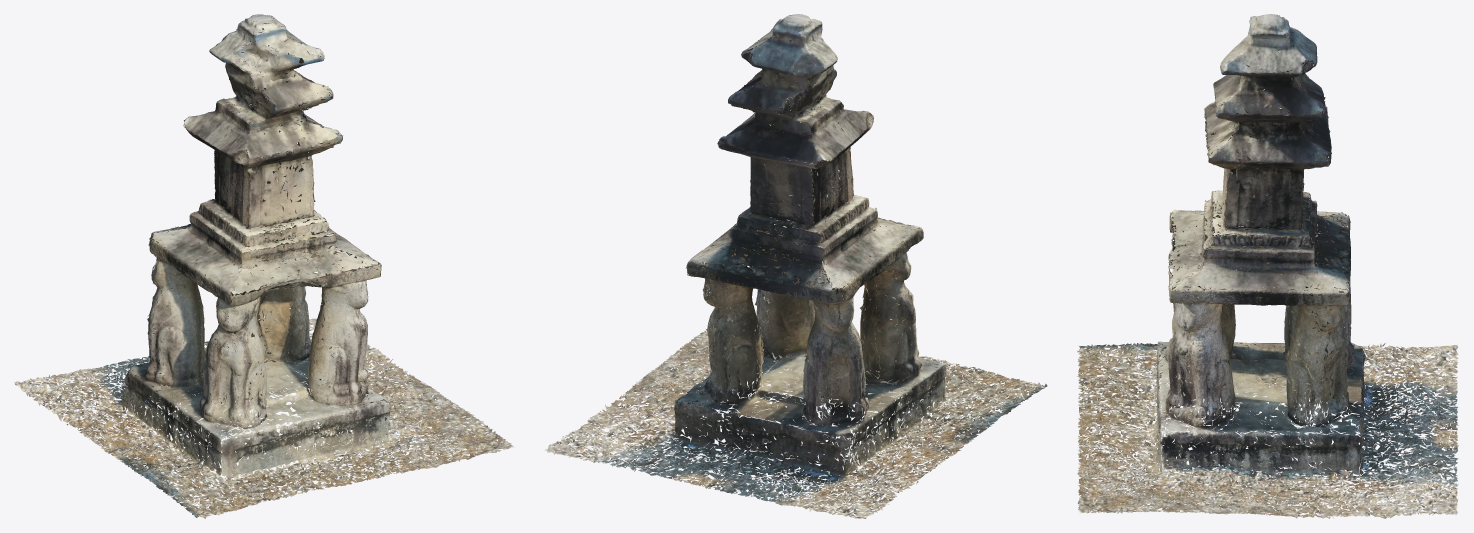
File: pagoda.glb
The picture shows the model from 3 angles, left to right: view 1: azimuth 30°, elevation 25°; view 2: azimuth 150°, elevation 25°; view 3: azimuth 270°, elevation 25°; orthographic projection. The views are drawn at different scales.
Parts seen in each view (by area): view 1: Stereo textured mesh, Stereo textured mesh_Material0_0.001, Stereo textured mesh_Material0_0.002, Stereo textured mesh_Material0_0.003; view 2: Stereo textured mesh, Stereo textured mesh_Material0_0.002, Stereo textured mesh_Material0_0.001, Stereo textured mesh_Material0_0.003; view 3: Stereo textured mesh_Material0_0.001, Stereo textured mesh, Stereo textured mesh_Material0_0.002, Stereo textured mesh_Material0_0.003.
Boxes of the visible parts, <box> form: Stereo textured mesh: <box>97,14,484,477</box>; Stereo textured mesh_Material0_0.001: <box>79,14,515,518</box>; Stereo textured mesh_Material0_0.002: <box>14,20,505,514</box>; Stereo textured mesh_Material0_0.003: <box>29,42,464,514</box>; Stereo textured mesh: <box>619,14,963,472</box>; Stereo textured mesh_Material0_0.002: <box>545,19,1034,518</box>; Stereo textured mesh_Material0_0.001: <box>633,20,1047,471</box>; Stereo textured mesh_Material0_0.003: <box>559,31,1031,516</box>; Stereo textured mesh_Material0_0.001: <box>1077,15,1349,515</box>; Stereo textured mesh: <box>1082,14,1356,516</box>; Stereo textured mesh_Material0_0.002: <box>1077,18,1458,518</box>; Stereo textured mesh_Material0_0.003: <box>1078,58,1458,518</box>.
Size of the model in its own units: 2.63 by 3.19 by 2.63.
1 material, 1 textured.
